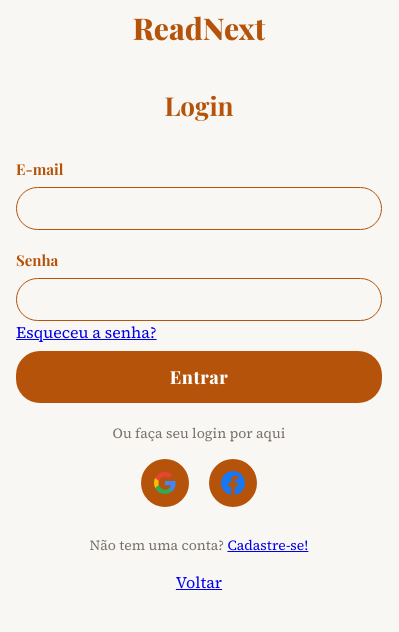
Test: Página de Login — Validações › exibe mensagem de credenciais inválidas
Type "ana@email.com" into the field at (199, 208), box [16, 187, 382, 230]
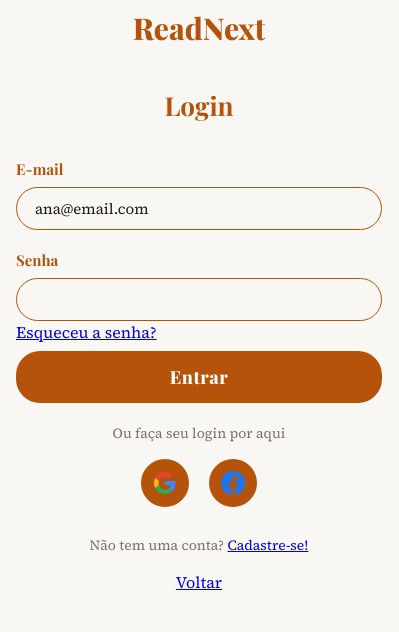
Type "senhaerrada" into the password field at (199, 300), box [16, 278, 382, 321]
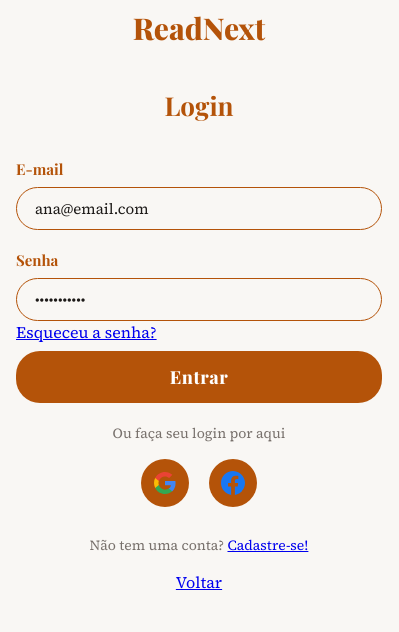
Click the button "Entrar" at (199, 377), box [16, 351, 382, 403]
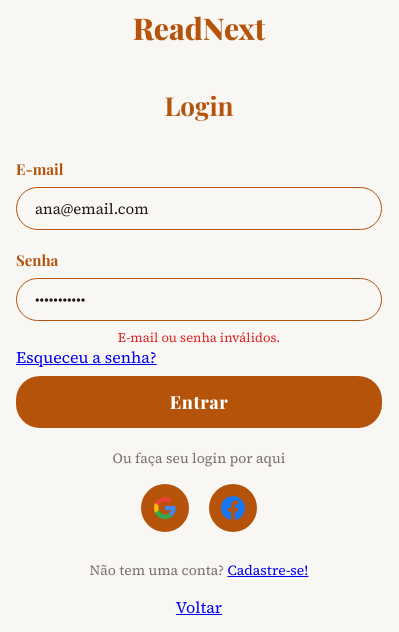
Now the text "E-mail ou senha inválidos." is shown, box [118, 329, 280, 346]
